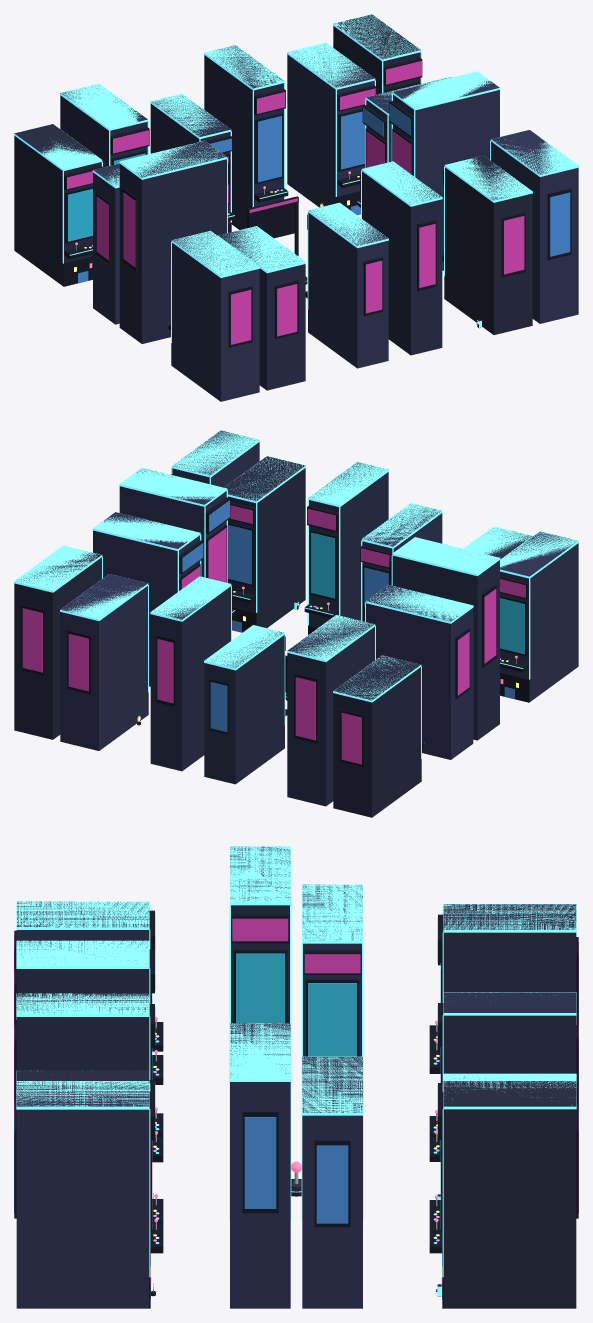
3 views of the same model, one above another, from view 1: azimuth 30°, elevation 25°; view 2: azimuth 150°, elevation 25°; view 3: azimuth 270°, elevation 25° (orthographic). The views are drawn at different scales.
Visible parts, largest first — view 1: district_city_arcade.lod1; view 2: district_city_arcade.lod1; view 3: district_city_arcade.lod1.
Boxes of the visible parts, bbox=[...] form: district_city_arcade.lod1: bbox=[14, 14, 578, 401]; district_city_arcade.lod1: bbox=[14, 430, 578, 817]; district_city_arcade.lod1: bbox=[14, 846, 578, 1308].
Bounding box in the file's own units: 97.9 × 43.8 × 97.9.
